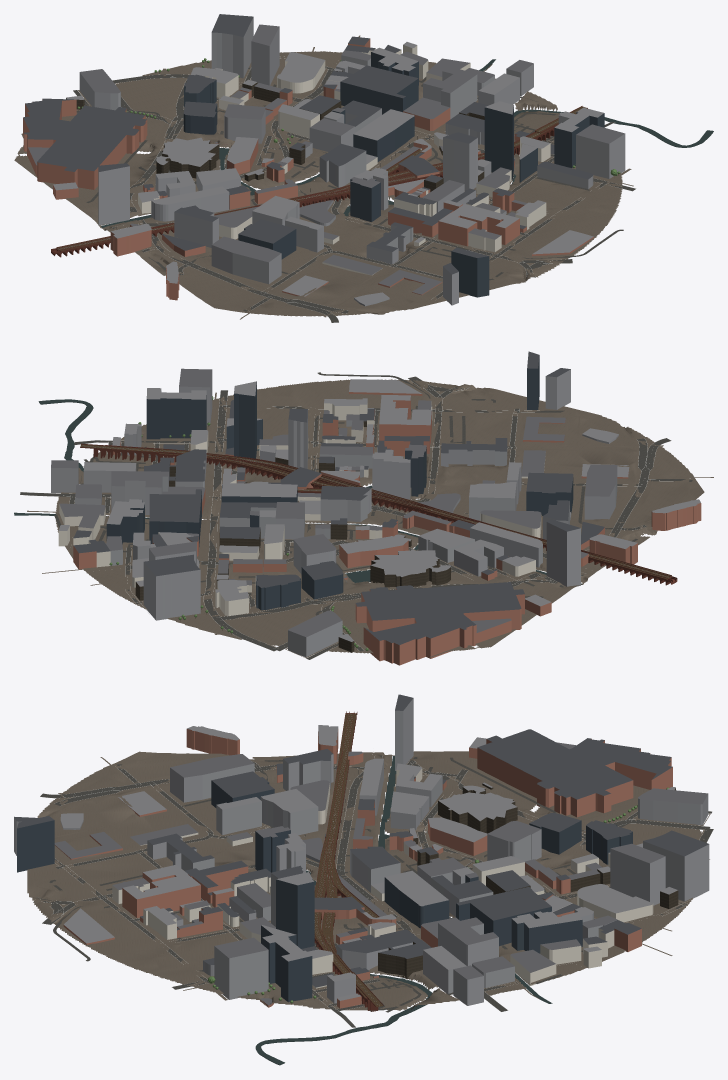
File: barclay_surroundings_mobile.glb
The picture shows the model from 3 angles, top to bottom: view 1: azimuth 30°, elevation 25°; view 2: azimuth 150°, elevation 25°; view 3: azimuth 270°, elevation 25°; orthographic projection. The views are drawn at different scales.
Visible parts, largest first — view 1: Terrain_EA_DTM, bldg_30089216, bldg_23112318, bldg_30927973, road_3697914, bldg_31177215, viaduct_31178960_arch, bldg_31176345, viaduct_31178960_deck, canal_28047773, kerb_3697914; view 2: Terrain_EA_DTM, bldg_30089216, bldg_23112318, bldg_30927973, road_3697914, bldg_31177215, viaduct_31178960_arch, bldg_31176345, viaduct_31178960_deck, kerb_3697914, canal_28047773; view 3: Terrain_EA_DTM, bldg_30089216, bldg_23112318, bldg_30927973, road_3697914, bldg_31177215, viaduct_31178960_deck, bldg_31176345, canal_28047773, viaduct_31178960_arch, kerb_3697914.
Boxes of the visible parts, <box> form: Terrain_EA_DTM: <box>14,35,633,319</box>; bldg_30089216: <box>28,17,625,306</box>; bldg_23112318: <box>23,14,593,300</box>; bldg_30927973: <box>53,42,604,304</box>; road_3697914: <box>73,66,635,322</box>; bldg_31177215: <box>138,45,554,275</box>; viaduct_31178960_arch: <box>51,106,587,257</box>; bldg_31176345: <box>66,70,484,197</box>; viaduct_31178960_deck: <box>56,106,586,251</box>; canal_28047773: <box>101,59,713,227</box>; kerb_3697914: <box>73,56,630,322</box>; Terrain_EA_DTM: <box>27,379,713,657</box>; bldg_30089216: <box>51,368,618,657</box>; bldg_23112318: <box>73,351,701,665</box>; bldg_30927973: <box>59,355,700,641</box>; road_3697914: <box>20,372,692,659</box>; bldg_31177215: <box>58,401,545,615</box>; viaduct_31178960_arch: <box>80,443,677,585</box>; bldg_31176345: <box>135,421,450,652</box>; viaduct_31178960_deck: <box>80,444,671,579</box>; kerb_3697914: <box>22,379,690,659</box>; canal_28047773: <box>14,399,581,585</box>; Terrain_EA_DTM: <box>27,751,710,1010</box>; bldg_30089216: <box>14,698,709,1005</box>; bldg_23112318: <box>14,694,708,1008</box>; bldg_30927973: <box>17,725,677,1002</box>; road_3697914: <box>33,755,713,1027</box>; bldg_31177215: <box>112,768,653,988</box>; viaduct_31178960_deck: <box>314,713,382,1007</box>; bldg_31176345: <box>325,783,678,979</box>; canal_28047773: <box>255,756,552,1065</box>; viaduct_31178960_arch: <box>314,711,383,1011</box>; kerb_3697914: <box>33,756,713,1027</box>.
Bounding box in the file's own units: 945 × 97.78 × 814.
Materials: 20 (4 with a texture image).
